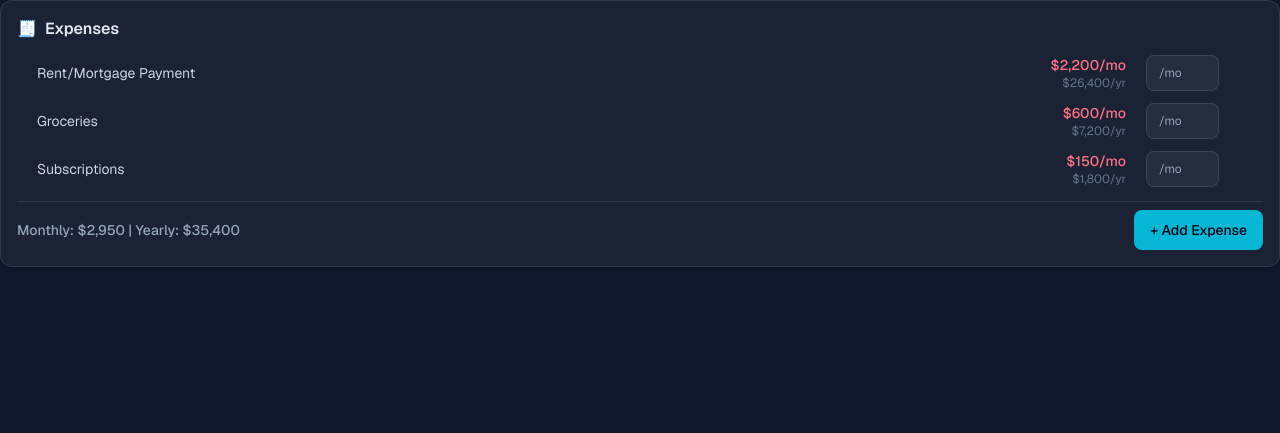
ExpenseEntry frequency display › shows new expense frequency dropdown in add form
Click the button "+ Add Expense". click: (1199, 230)
box: [1134,210,1263,250]
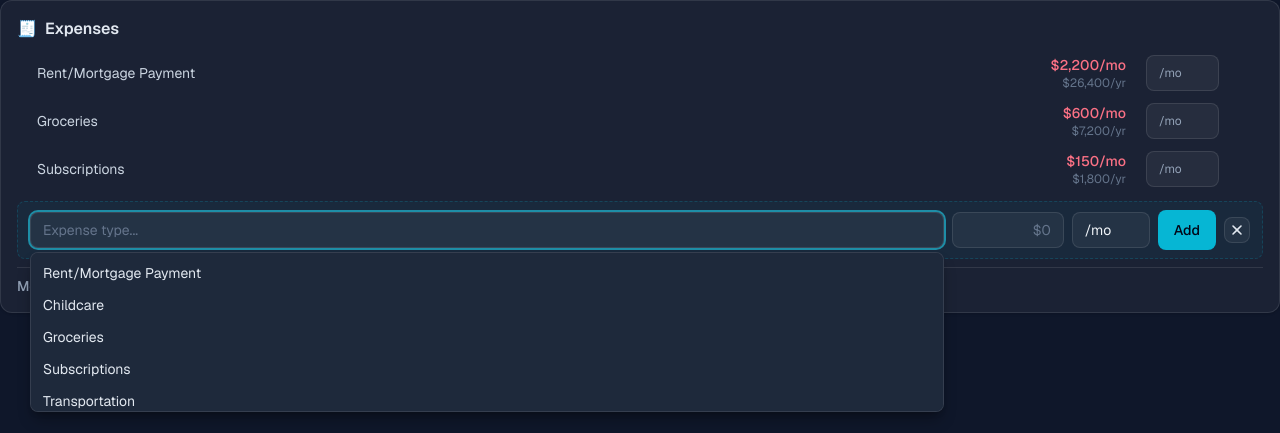
Now the dropdown with test id "new-expense-frequency" is shown, box [1072,212,1150,248]
